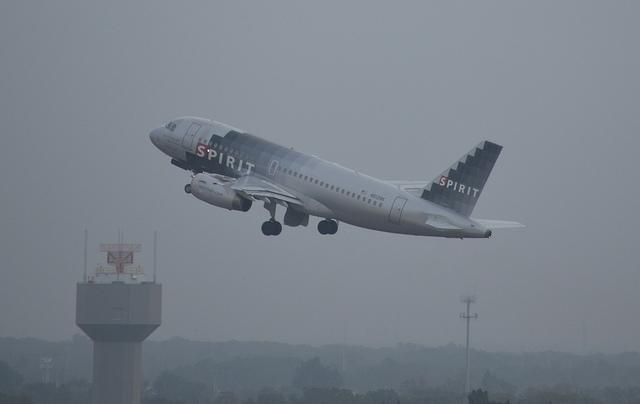airplane: (148, 114, 527, 241)
